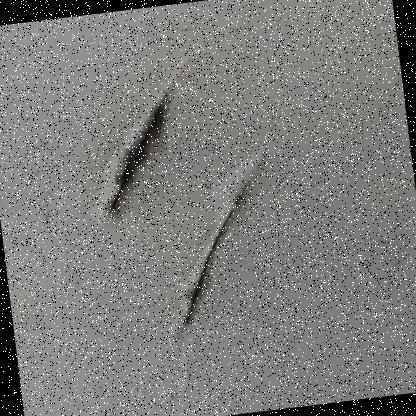Crack: (46, 36, 304, 356)
